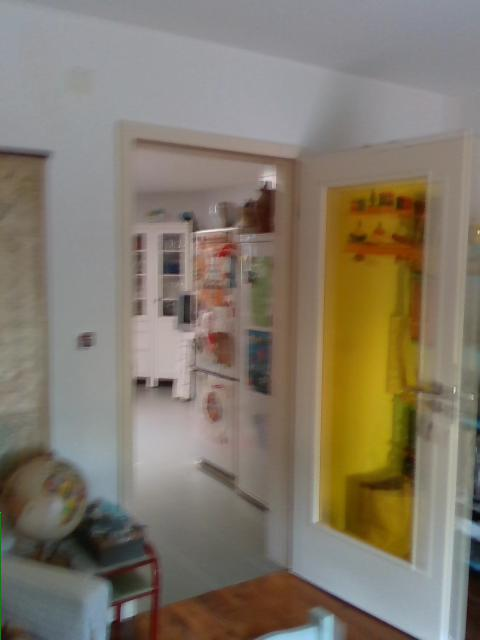open_door: (114, 116, 307, 570)
